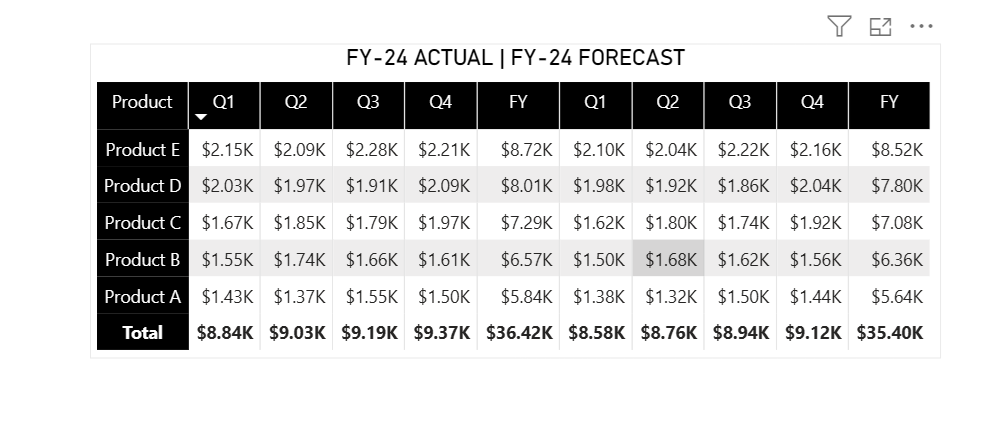

This screenshot's page, from the dashboard's own definition file:
{"tool":"powerbi","page":{"name":"Page 1","canvas":[1280,720],"ordinal":0},"visuals":[{"type":"pivotTable","title":"FY-24 ACTUAL | FY-24 FORECAST","fields":{"Rows":["ProductSummaryTableActual.Product"],"Values":["Sum(ProductSummaryTableActual.Q1)","Sum(ProductSummaryTableActual.Q2)","Sum(ProductSummaryTableActual.Q3)","Sum(ProductSummaryTableActual.Q4)","Sum(ProductSummaryTableActual.FY)","Sum(ProductSummaryTableForecast.Q1F)","Sum(ProductSummaryTableForecast.Q2F)","Sum(ProductSummaryTableForecast.Q3F)","Sum(ProductSummaryTableForecast.Q4F)","Sum(ProductSummaryTableForecast.FYF)"]},"box":[152.7,177.3,648.2,240],"z":0}]}

Visuals, with their boxes in screenshot pixels (x1, y1, x2, y2):
"FY-24 ACTUAL | FY-24 FORECAST" pivotTable: BBox(95, 80, 463, 216)
